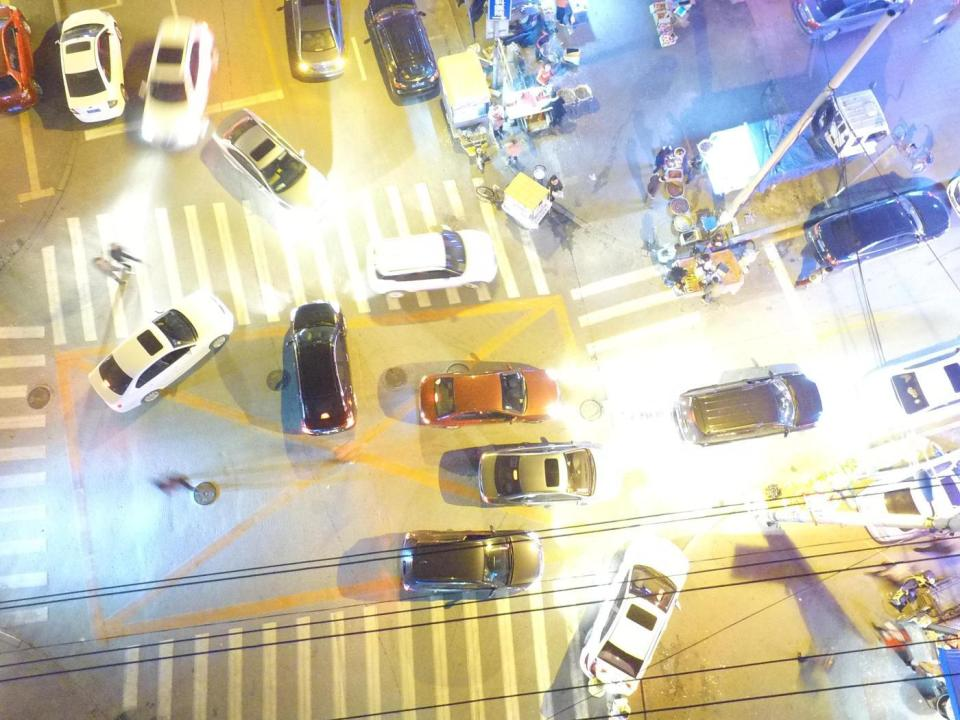car: (87, 288, 235, 413), (578, 534, 691, 696), (211, 106, 333, 226), (806, 182, 952, 274), (674, 370, 824, 446), (853, 447, 960, 544), (401, 528, 545, 600), (477, 440, 621, 509), (858, 340, 960, 435), (289, 298, 359, 436), (152, 14, 220, 152), (365, 228, 499, 298), (418, 367, 562, 430), (58, 7, 130, 123), (364, 0, 442, 106), (790, 0, 916, 44), (0, 4, 46, 115), (287, 0, 347, 84)
truck: (696, 86, 892, 196)
